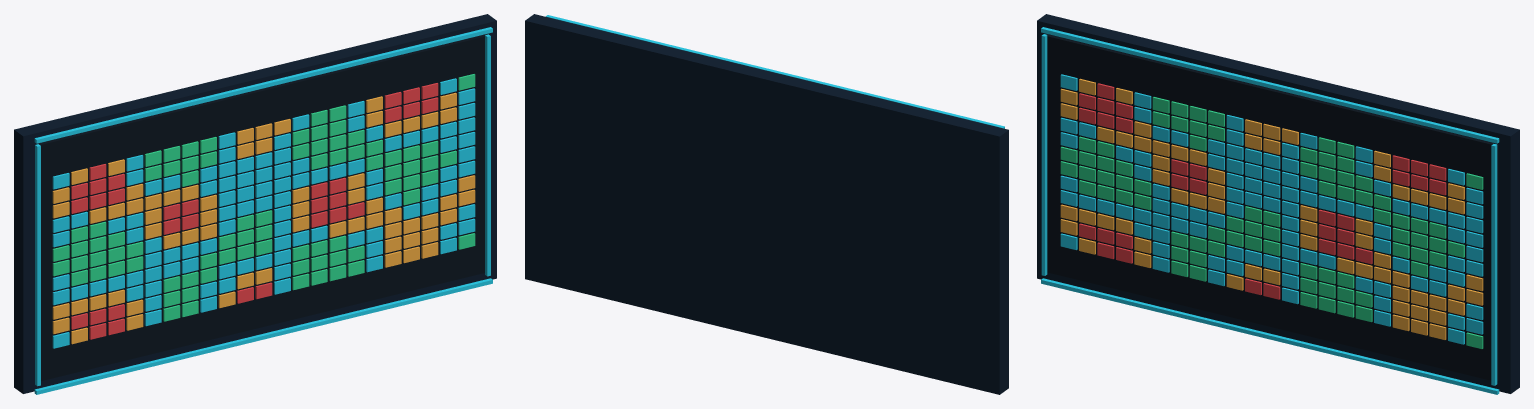
Rendered from 11_L73_MicroscopicSurfaceTopography.fbx.
3 views of the same model, side by side, from view 1: azimuth 30°, elevation 25°; view 2: azimuth 150°, elevation 25°; view 3: azimuth 330°, elevation 25° (orthographic).
Parts seen in each view (by area): view 1: MicroscopicSurfaceTopography_Part_0001, MicroscopicSurfaceTopography_Part_0000, MicroscopicSurfaceTopography_Part_0280, MicroscopicSurfaceTopography_Part_0281, MicroscopicSurfaceTopography_Part_0279, MicroscopicSurfaceTopography_Part_0278; view 2: MicroscopicSurfaceTopography_Part_0000, MicroscopicSurfaceTopography_Part_0281; view 3: MicroscopicSurfaceTopography_Part_0001, MicroscopicSurfaceTopography_Part_0000, MicroscopicSurfaceTopography_Part_0280, MicroscopicSurfaceTopography_Part_0281, MicroscopicSurfaceTopography_Part_0278, MicroscopicSurfaceTopography_Part_0279.
Boxes of the visible parts, box(x1,y1,x2,y2) form: MicroscopicSurfaceTopography_Part_0001: box(35, 34, 485, 380); MicroscopicSurfaceTopography_Part_0000: box(14, 14, 496, 393); MicroscopicSurfaceTopography_Part_0280: box(34, 278, 492, 394); MicroscopicSurfaceTopography_Part_0281: box(34, 27, 492, 143); MicroscopicSurfaceTopography_Part_0279: box(485, 34, 490, 276); MicroscopicSurfaceTopography_Part_0278: box(35, 144, 40, 386); MicroscopicSurfaceTopography_Part_0000: box(525, 14, 1008, 394); MicroscopicSurfaceTopography_Part_0281: box(545, 15, 1004, 128); MicroscopicSurfaceTopography_Part_0001: box(1047, 34, 1498, 381); MicroscopicSurfaceTopography_Part_0000: box(1037, 14, 1519, 393); MicroscopicSurfaceTopography_Part_0280: box(1041, 278, 1499, 394); MicroscopicSurfaceTopography_Part_0281: box(1041, 27, 1499, 143); MicroscopicSurfaceTopography_Part_0278: box(1041, 34, 1047, 275); MicroscopicSurfaceTopography_Part_0279: box(1491, 144, 1497, 385).
Bounding box in the file's own units: 298 × 155 × 15.3.
